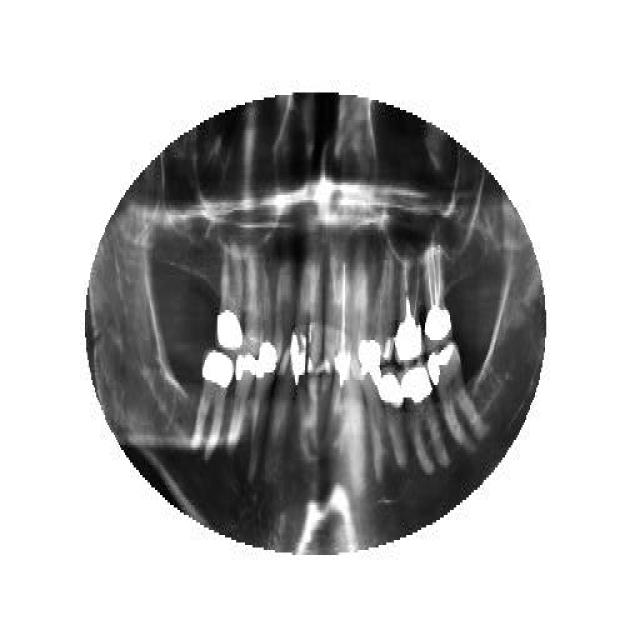Fillings: (427, 345, 488, 453), (401, 363, 451, 475), (190, 348, 235, 460), (248, 340, 278, 485), (216, 235, 245, 355), (360, 362, 385, 488), (228, 350, 258, 452), (380, 362, 408, 470), (290, 240, 310, 380), (358, 265, 383, 363)
Implant: (420, 232, 454, 352), (395, 242, 426, 358), (335, 250, 350, 385)
